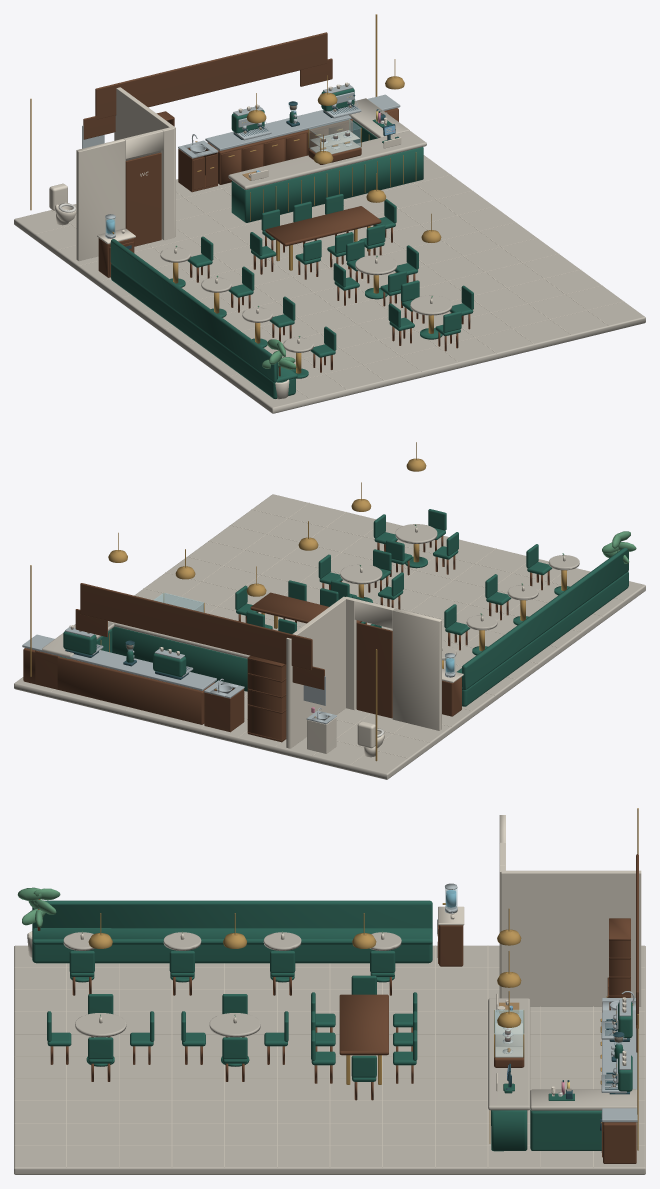
The model's file is cafe_C.glb.
3 views of the same model, one above another, from view 1: azimuth 30°, elevation 25°; view 2: azimuth 150°, elevation 25°; view 3: azimuth 270°, elevation 25° (orthographic). The views are drawn at different scales.
Visible parts, largest first — view 1: floor, svc:34:WC_Mirror, svc:36:Prep_Handle, room:33:Plant_Broad_Leaf, room:35:Community_Table_Top, svc:29:FIXTURE_Staff_Sink.002, svc:25:FIXTURE_Pastry_Display.002, room:31:FIXTURE_Water_Recycling.002, room:48:Table_Top, room:49:Table_Top, svc:28:FIXTURE_Second_Espresso, svc:21:FIXTURE_Espresso.002 (+12 smaller); view 2: floor, svc:34:WC_Mirror, svc:36:Prep_Handle, room:33:Plant_Broad_Leaf, svc:30:FIXTURE_Stock.002, svc:29:FIXTURE_Staff_Sink.002, room:35:Community_Table_Top, svc:23:FIXTURE_Guest_WC_Sink, room:31:FIXTURE_Water_Recycling.002, room:48:Table_Top, svc:21:FIXTURE_Espresso.002, svc:28:FIXTURE_Second_Espresso (+15 smaller); view 3: floor, room:33:Plant_Broad_Leaf, svc:34:WC_Mirror, svc:36:Prep_Handle, room:35:Community_Table_Top, room:31:FIXTURE_Water_Recycling.002, svc:30:FIXTURE_Stock.002, svc:25:FIXTURE_Pastry_Display.002, room:49:Table_Top, room:48:Table_Top, svc:28:FIXTURE_Second_Espresso, svc:21:FIXTURE_Espresso.002 (+17 smaller).
Part boxes in pixels (left/top/right/bottom): floor: left=14, top=155, right=645, bottom=413; svc:34:WC_Mirror: left=76, top=32, right=332, bottom=260; svc:36:Prep_Handle: left=205, top=14, right=426, bottom=222; room:33:Plant_Broad_Leaf: left=110, top=239, right=297, bottom=399; room:35:Community_Table_Top: left=265, top=206, right=381, bottom=270; svc:29:FIXTURE_Staff_Sink.002: left=178, top=134, right=218, bottom=192; svc:25:FIXTURE_Pastry_Display.002: left=308, top=119, right=361, bottom=164; room:31:FIXTURE_Water_Recycling.002: left=97, top=214, right=135, bottom=277; room:48:Table_Top: left=410, top=295, right=452, bottom=339; room:49:Table_Top: left=355, top=255, right=397, bottom=299; svc:28:FIXTURE_Second_Espresso: left=321, top=82, right=361, bottom=118; svc:21:FIXTURE_Espresso.002: left=231, top=104, right=271, bottom=140; floor: left=14, top=494, right=645, bottom=779; svc:34:WC_Mirror: left=75, top=583, right=441, bottom=748; svc:36:Prep_Handle: left=22, top=565, right=249, bottom=724; room:33:Plant_Broad_Leaf: left=457, top=531, right=636, bottom=706; svc:30:FIXTURE_Stock.002: left=247, top=655, right=286, bottom=742; svc:29:FIXTURE_Staff_Sink.002: left=204, top=678, right=244, bottom=732; room:35:Community_Table_Top: left=250, top=592, right=361, bottom=628; svc:23:FIXTURE_Guest_WC_Sink: left=306, top=707, right=336, bottom=753; room:31:FIXTURE_Water_Recycling.002: left=442, top=653, right=463, bottom=716; room:48:Table_Top: left=395, top=524, right=437, bottom=568; svc:21:FIXTURE_Espresso.002: left=153, top=647, right=193, bottom=679; svc:28:FIXTURE_Second_Espresso: left=63, top=625, right=103, bottom=657; floor: left=14, top=945, right=645, bottom=1174; room:33:Plant_Broad_Leaf: left=17, top=887, right=432, bottom=963; svc:34:WC_Mirror: left=499, top=815, right=641, bottom=1052; svc:36:Prep_Handle: left=488, top=994, right=638, bottom=1163; room:35:Community_Table_Top: left=339, top=994, right=388, bottom=1084; room:31:FIXTURE_Water_Recycling.002: left=437, top=883, right=464, bottom=966; svc:30:FIXTURE_Stock.002: left=606, top=918, right=630, bottom=997; svc:25:FIXTURE_Pastry_Display.002: left=494, top=1010, right=524, bottom=1067; room:49:Table_Top: left=209, top=1013, right=260, bottom=1066; room:48:Table_Top: left=75, top=1013, right=126, bottom=1066; svc:28:FIXTURE_Second_Espresso: left=601, top=1050, right=632, bottom=1094; svc:21:FIXTURE_Espresso.002: left=601, top=997, right=632, bottom=1041.
Bounding box in the file's own units: 10 × 3.25 × 11.99.
